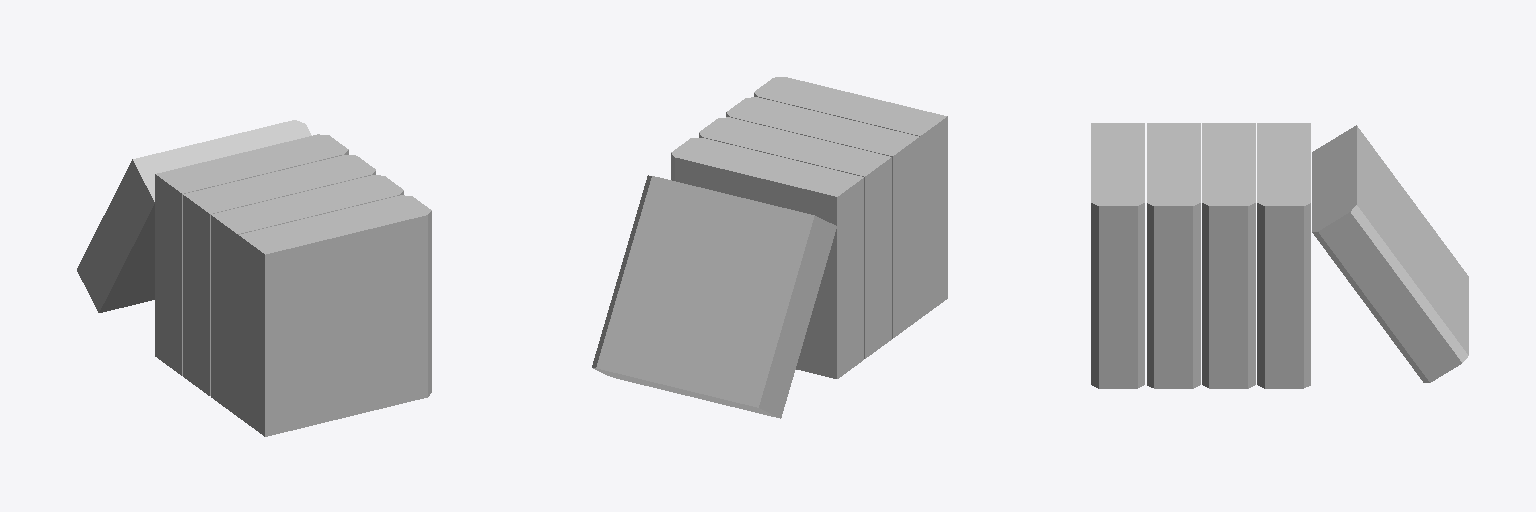
Rendered from bookcollection.obj.
3 views of the same model, side by side, from view 1: azimuth 30°, elevation 25°; view 2: azimuth 150°, elevation 25°; view 3: azimuth 270°, elevation 25° (orthographic).
Visible parts, largest first — view 1: Cube; view 2: Cube; view 3: Cube.
Boxes of the visible parts, box(x1,y1,x2,y2) form: Cube: box(77, 120, 431, 436); Cube: box(592, 77, 947, 418); Cube: box(1091, 123, 1468, 388).
Bounding box in the file's own units: 1.95 × 2 × 3.75.